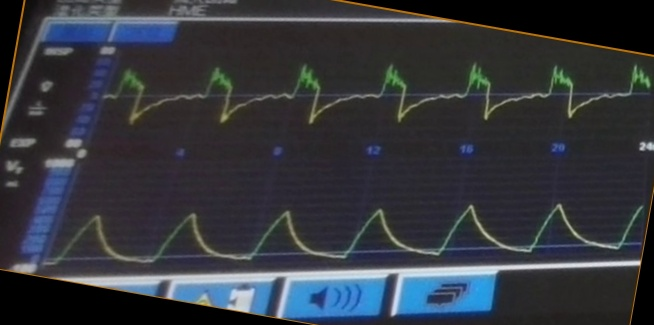Accumulation Flow: (118, 56, 648, 138)
Volume: (75, 173, 637, 262)
